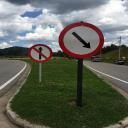NoSeguir: (28, 44, 54, 63)
